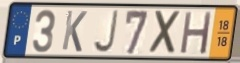3: (31, 8, 57, 54)
7: (123, 8, 151, 56)
H: (178, 10, 215, 56)
J: (91, 9, 120, 55)
K: (60, 9, 89, 54)
X: (148, 9, 183, 57)
